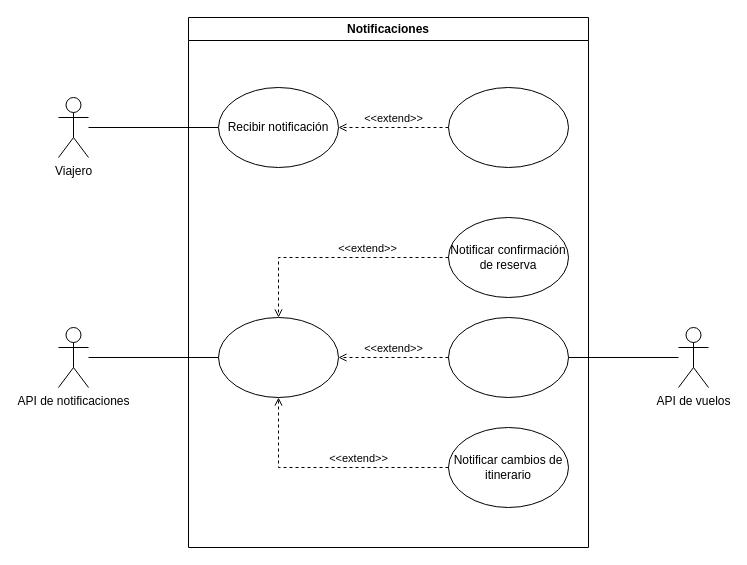
The diagram is 747 pixels wide and 565 high, and some of its shapes have lost their labels. Here are the shapes that lost their labels. From the top down, the box of each, then its label:
(448, 86, 568, 168): Seleccionar método de notificación
(218, 316, 338, 398): Enviar notificacion
(448, 316, 568, 398): Notificar cambios de vuelo
